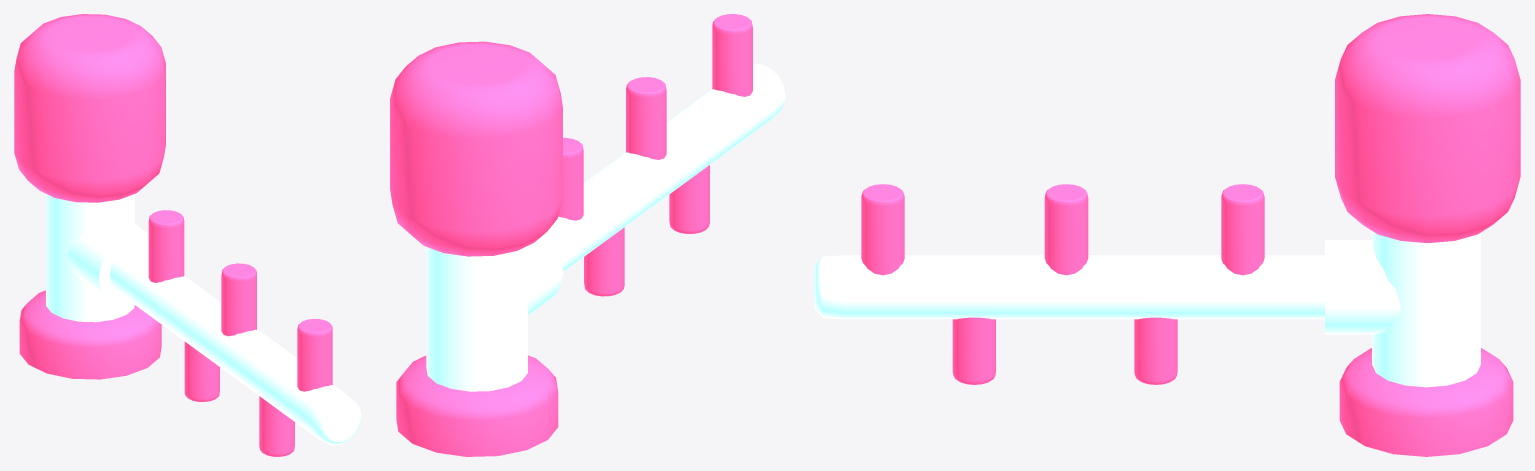
The model's file is Barrier.fbx.
3 renders of one model, left to right at view 1: azimuth 30°, elevation 25°; view 2: azimuth 150°, elevation 25°; view 3: azimuth 270°, elevation 25°, orthographic. The views are drawn at different scales.
Parts seen in each view (by area): view 1: Cylinder.026, Cylinder.029, Cylinder.030, Cylinder.027, Cylinder.028, Cylinder.031, Cylinder.032, Cylinder.033, Cylinder.034, Cylinder.035; view 2: Cylinder.026, Cylinder.029, Cylinder.027, Cylinder.030, Cylinder.032, Cylinder.033, Cylinder.034, Cylinder.035, Cylinder.028, Cylinder.031; view 3: Cylinder.026, Cylinder.029, Cylinder.027, Cylinder.030, Cylinder.028, Cylinder.032, Cylinder.031, Cylinder.033, Cylinder.034, Cylinder.035.
Boxes of the visible parts, <box> form: Cylinder.026: <box>14,14,165,202</box>; Cylinder.029: <box>109,246,361,445</box>; Cylinder.030: <box>19,290,161,379</box>; Cylinder.027: <box>46,194,135,322</box>; Cylinder.028: <box>67,219,148,306</box>; Cylinder.031: <box>148,210,184,282</box>; Cylinder.032: <box>221,263,256,336</box>; Cylinder.033: <box>297,319,332,391</box>; Cylinder.034: <box>184,341,219,401</box>; Cylinder.035: <box>259,396,294,456</box>; Cylinder.026: <box>390,41,562,256</box>; Cylinder.029: <box>545,63,785,271</box>; Cylinder.027: <box>426,246,527,391</box>; Cylinder.030: <box>396,355,558,456</box>; Cylinder.032: <box>626,77,666,159</box>; Cylinder.033: <box>712,14,752,96</box>; Cylinder.034: <box>584,227,624,296</box>; Cylinder.035: <box>669,165,709,233</box>; Cylinder.028: <box>528,234,563,315</box>; Cylinder.031: <box>558,137,583,220</box>; Cylinder.026: <box>1335,14,1520,243</box>; Cylinder.029: <box>814,255,1324,319</box>; Cylinder.027: <box>1372,231,1480,387</box>; Cylinder.030: <box>1339,348,1513,456</box>; Cylinder.028: <box>1325,240,1400,334</box>; Cylinder.032: <box>1044,184,1088,275</box>; Cylinder.031: <box>1221,184,1264,275</box>; Cylinder.033: <box>861,184,904,275</box>; Cylinder.034: <box>1134,317,1177,384</box>; Cylinder.035: <box>952,317,995,384</box>.
Bounding box in the file's own units: 0.8348 × 1.89 × 3.18.
